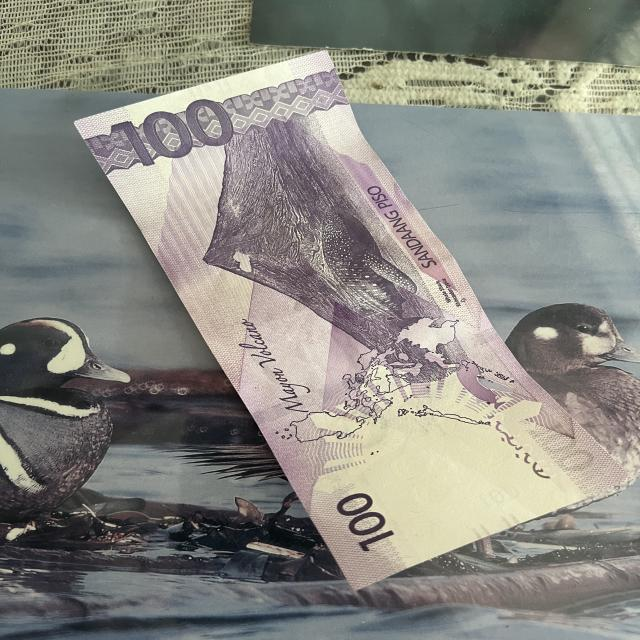100_whale: (310, 200, 428, 339)
100_whale_watermark: (447, 346, 519, 420)
watermark: (326, 404, 566, 526)
